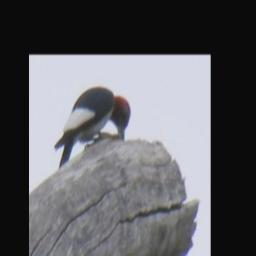Woodpecker: (51, 84, 134, 171)
